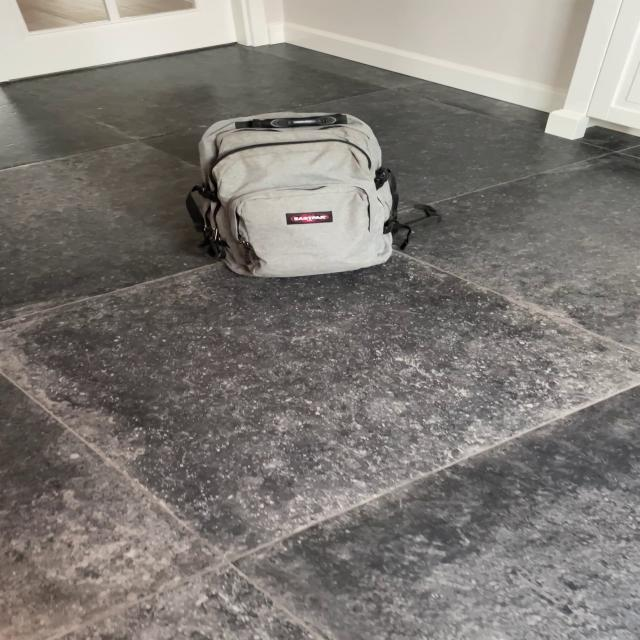backpack: (174, 104, 408, 284)
